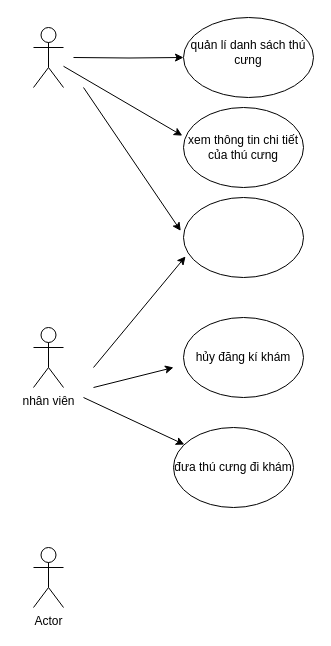
This 331x646 diagram has some shape labels left out. Each missing label, with the centre of its shape:
"khách hàng" goes at point (48, 57).
"đăng kí khám bệnh" goes at point (243, 237).
